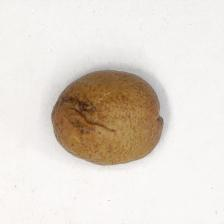NG: (51, 93, 118, 140)
